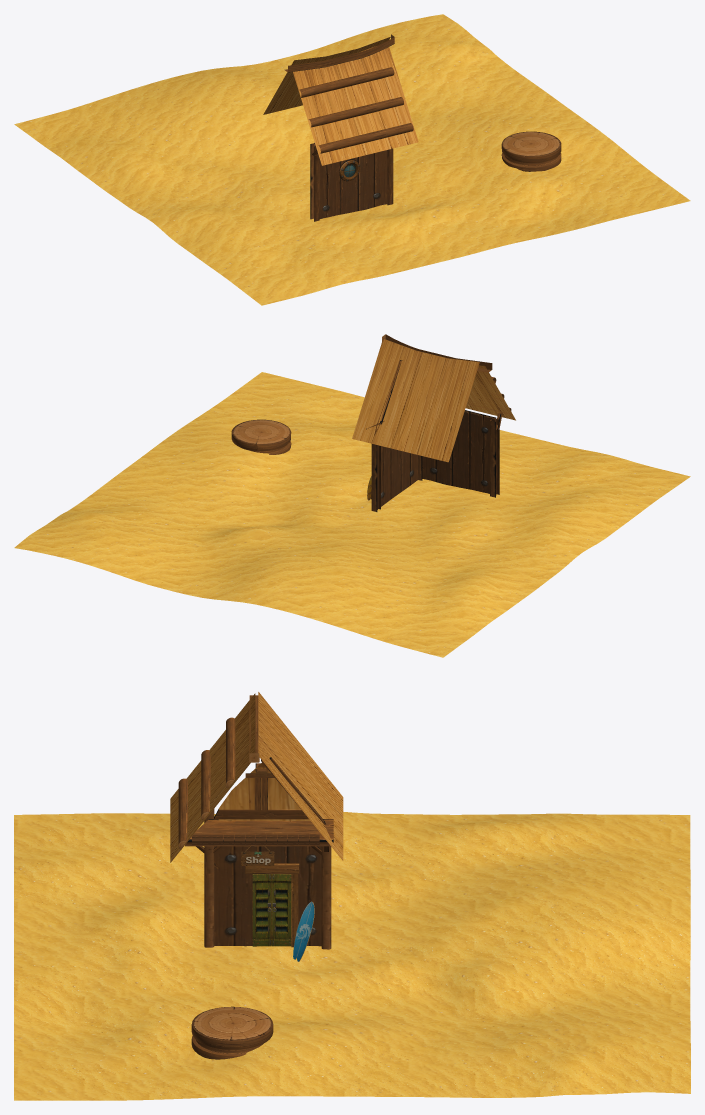
Rendered from Shope.fbx.
The picture shows the model from 3 angles, top to bottom: view 1: azimuth 30°, elevation 25°; view 2: azimuth 150°, elevation 25°; view 3: azimuth 270°, elevation 25°; orthographic projection. The views are drawn at different scales.
Visible parts, largest first — view 1: Sad, House, PlaneShope; view 2: Sad, House, PlaneShope; view 3: Sad, House, PlaneShope, Serf.
Boxes of the visible parts, left/top/right/bottom form: Sad: left=14, top=14, right=690, bottom=305; House: left=263, top=34, right=418, bottom=221; PlaneShope: left=501, top=131, right=561, bottom=171; Sad: left=14, top=372, right=690, bottom=657; House: left=352, top=334, right=515, bottom=511; PlaneShope: left=231, top=419, right=291, bottom=454; Sad: left=14, top=812, right=690, bottom=1100; House: left=170, top=692, right=343, bottom=949; PlaneShope: left=191, top=1006, right=273, bottom=1059; Serf: left=293, top=901, right=314, bottom=961.
Size of the model in its own units: 1659 by 579 by 1658.
3 materials, 3 textured.
